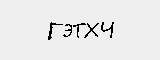Г: (44, 21, 64, 41)
Т: (71, 19, 87, 42)
Х: (83, 19, 99, 41)
Ч: (98, 20, 117, 39)
Э: (61, 21, 75, 42)
